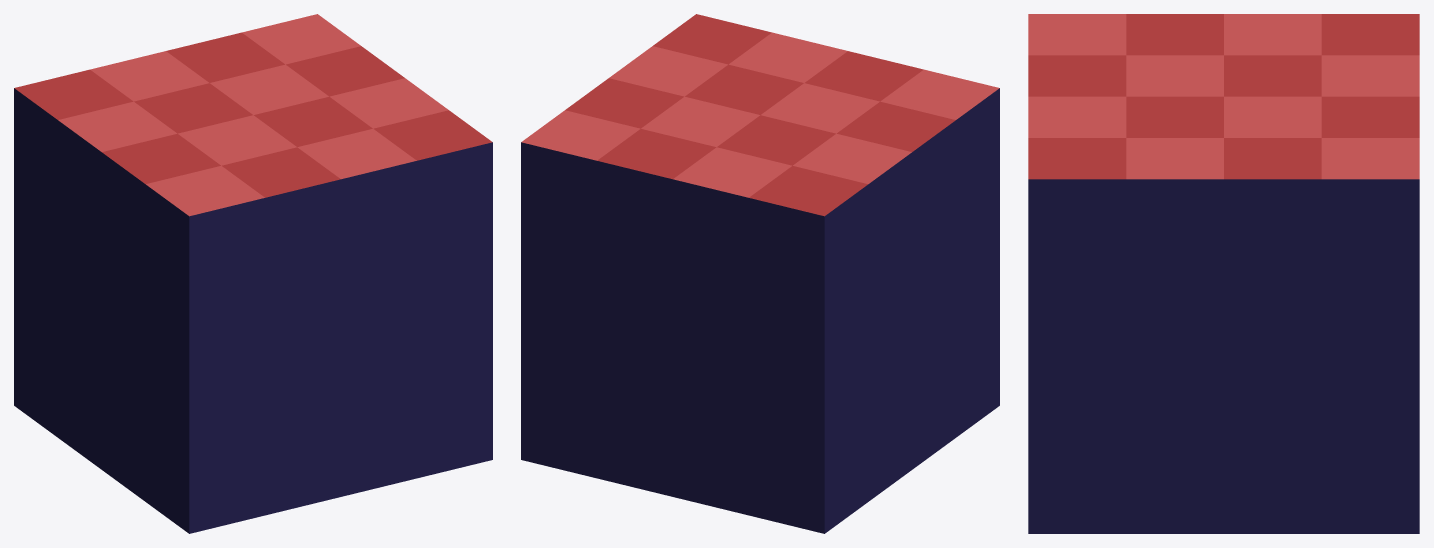
The model's file is box_red.glb.
The picture shows the model from 3 angles, left to right: view 1: azimuth 30°, elevation 25°; view 2: azimuth 150°, elevation 25°; view 3: azimuth 270°, elevation 25°; orthographic projection. The views are drawn at different scales.
Parts seen in each view (by area): view 1: Body; view 2: Body; view 3: Body.
Boxes of the visible parts, x1,y1,x2,y2 form: Body: (14, 14, 492, 533); Body: (521, 14, 999, 533); Body: (1028, 14, 1419, 533).
Size of the model in its own units: 1 by 1 by 1.
